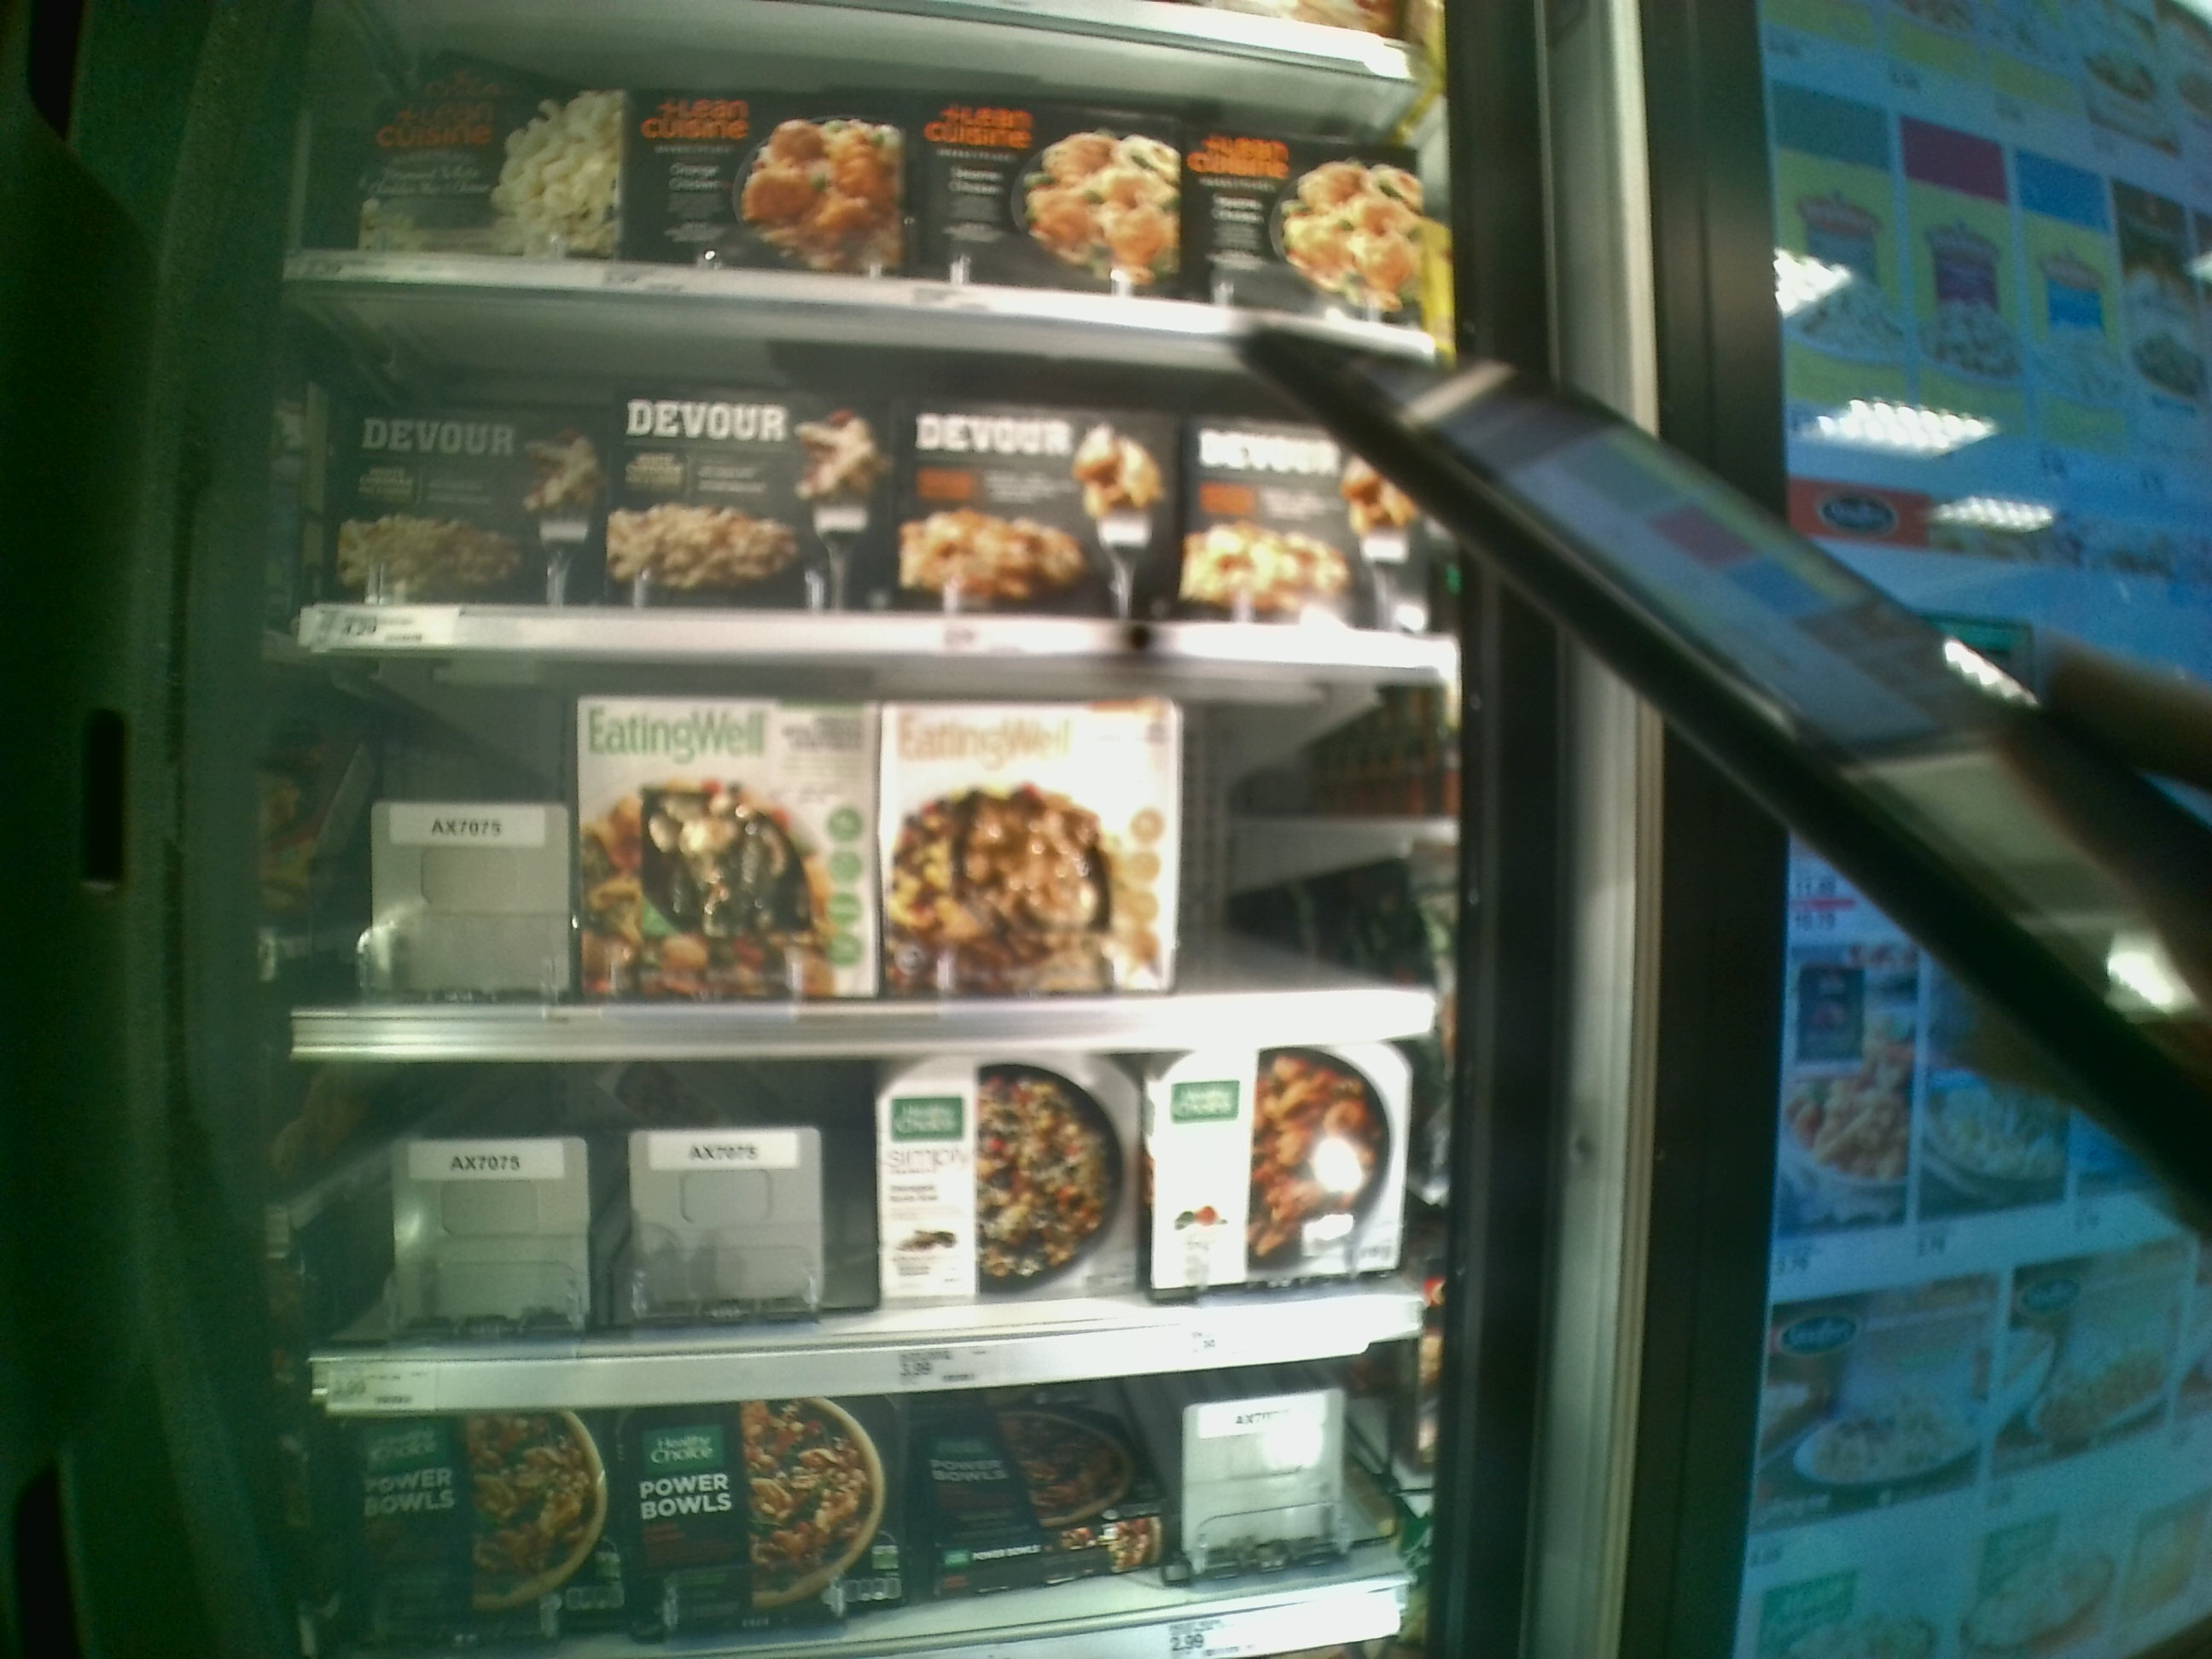shelf: (270, 638, 1446, 1049), (298, 1047, 1465, 1401)
